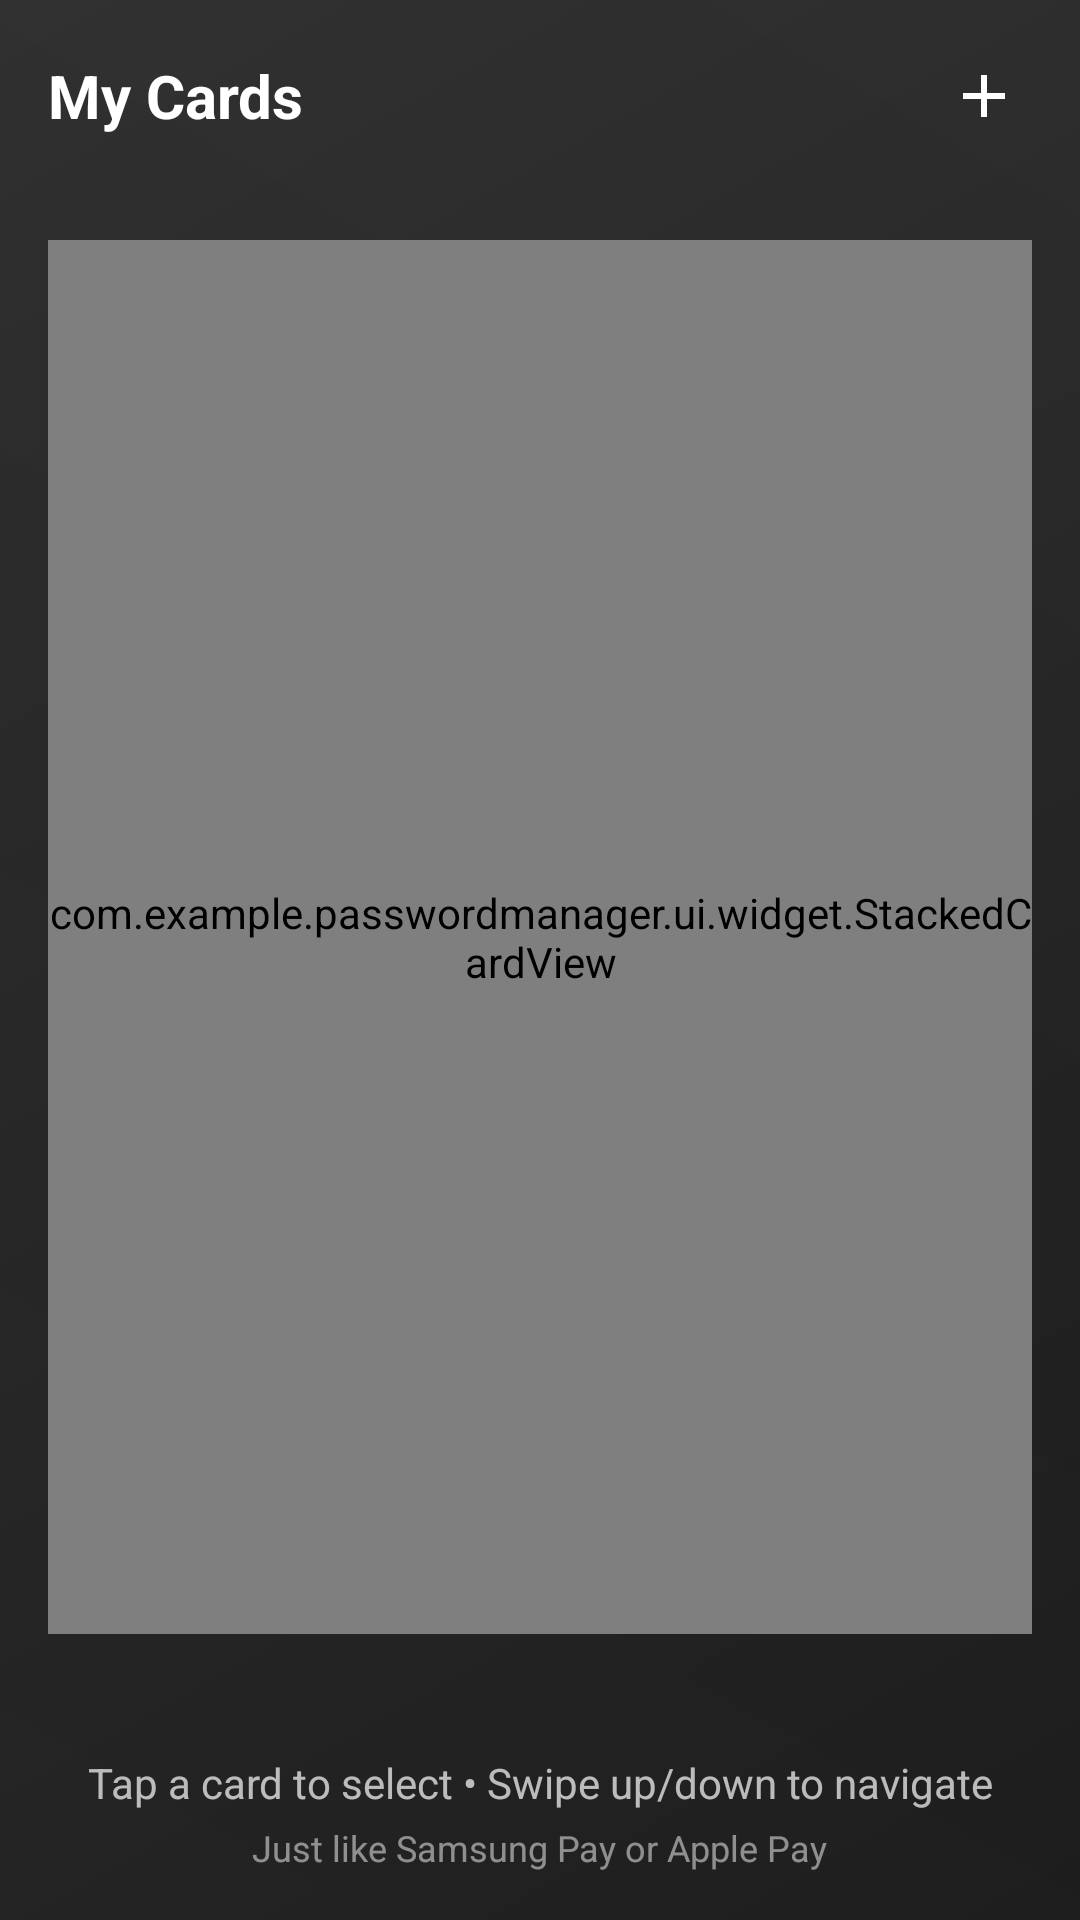

Icon click points for this 1080*1920 phone screenshot, format [x,y]:
add: [984,96]
